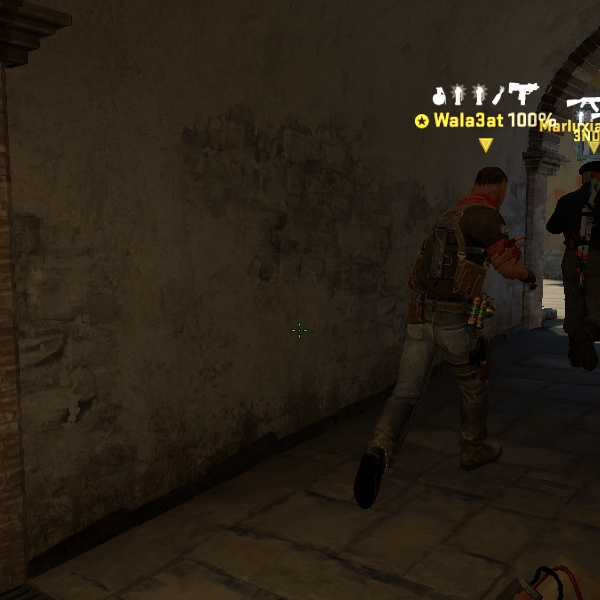t_body: (369, 162, 566, 510)
t_head: (455, 158, 519, 222)
